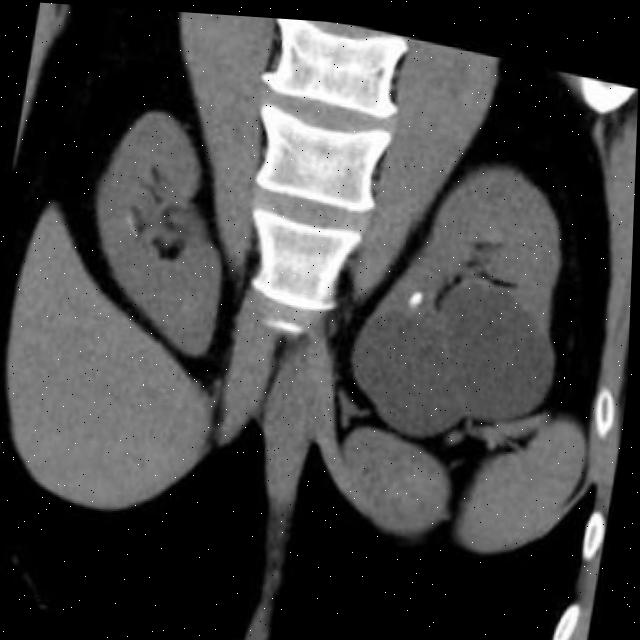Tas_Var: (402, 272, 430, 309)
